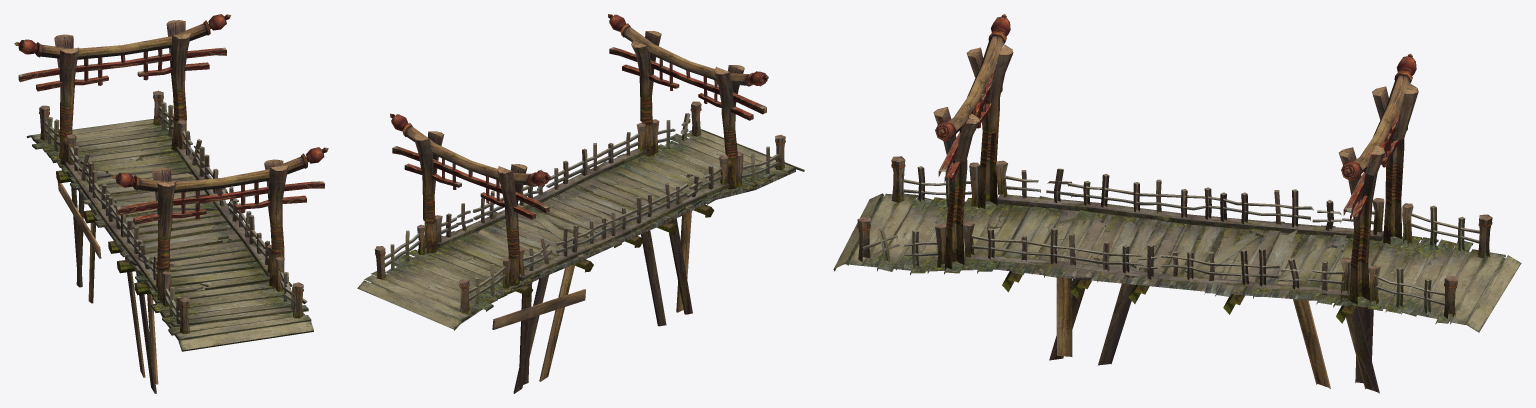
Rendered from 1004_Item_qiao_1.FBX.
The picture shows the model from 3 angles, left to right: view 1: azimuth 30°, elevation 25°; view 2: azimuth 150°, elevation 25°; view 3: azimuth 270°, elevation 25°; orthographic projection. The views are drawn at different scales.
Parts seen in each view (by area): view 1: 1004_Item_qiao_1; view 2: 1004_Item_qiao_1; view 3: 1004_Item_qiao_1.
Boxes of the visible parts, x1,y1,x2,y2 form: 1004_Item_qiao_1: (14, 14, 328, 393); 1004_Item_qiao_1: (357, 14, 804, 393); 1004_Item_qiao_1: (833, 14, 1521, 393).
Size of the model in its own units: 688 by 1275 by 637.
